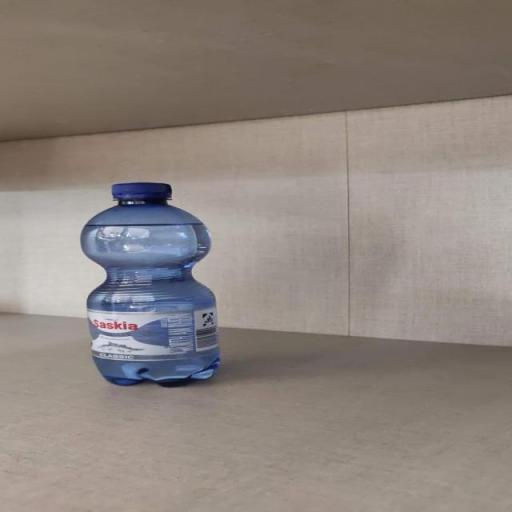plastic: (78, 180, 228, 388)
